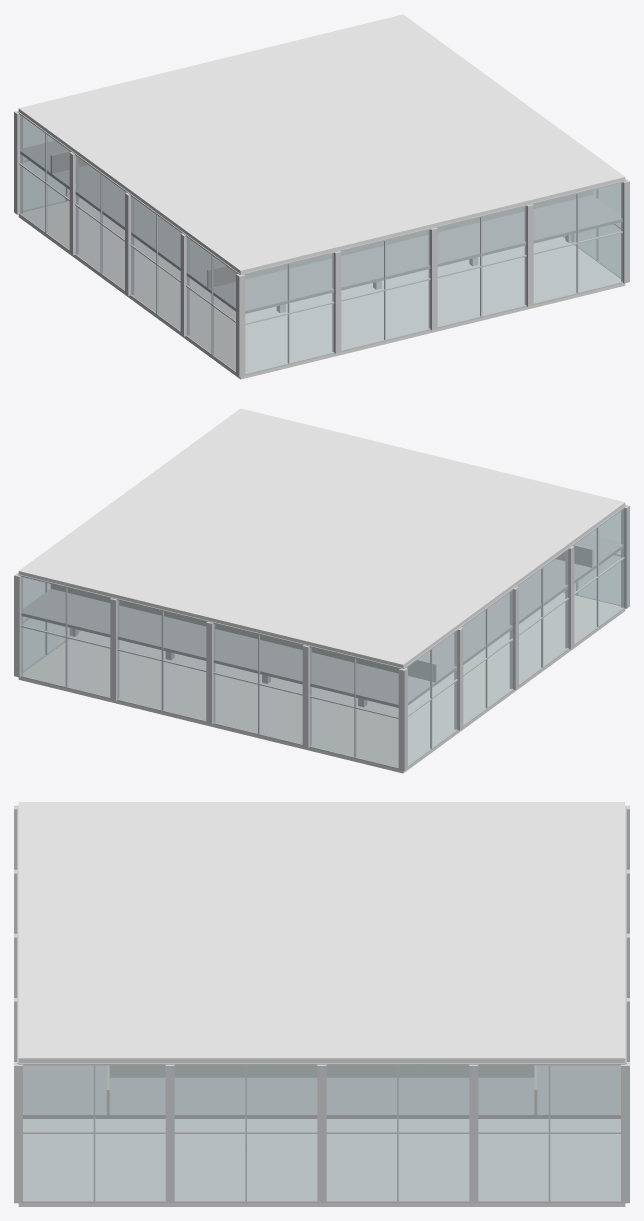
The model's file is mall.glb.
3 renders of one model, top to bottom at view 1: azimuth 30°, elevation 25°; view 2: azimuth 150°, elevation 25°; view 3: azimuth 270°, elevation 25°, orthographic. The views are drawn at different scales.
Parts seen in each view (by area): view 1: TTTM_CeilingSlab, TTTM_FloorSlab, TTTM_Mezz_South, TTTM_Mezz_West, TTTM_CW_South_Glass_07_00, TTTM_CW_South_Glass_07_01, TTTM_CW_South_Glass_01_01, TTTM_CW_South_Glass_03_00, TTTM_CW_South_Glass_05_01, TTTM_CW_South_Glass_01_00, TTTM_CW_South_Glass_02_01, TTTM_CW_South_Glass_03_01 (+43 smaller); view 2: TTTM_CeilingSlab, TTTM_FloorSlab, TTTM_Mezz_North, TTTM_Mezz_West, TTTM_CW_North_Glass_00_00, TTTM_CW_North_Glass_00_01, TTTM_CW_North_Glass_02_01, TTTM_CW_North_Glass_04_00, TTTM_CW_North_Glass_06_01, TTTM_CW_North_Glass_02_00, TTTM_CW_North_Glass_04_01, TTTM_CW_North_Glass_05_01 (+43 smaller); view 3: TTTM_CeilingSlab, TTTM_FloorSlab, TTTM_Mezz_East, TTTM_Rail_East, TTTM_CW_East_Glass_00_00, TTTM_CW_East_Glass_00_01, TTTM_CW_East_Glass_01_00, TTTM_CW_East_Glass_01_01, TTTM_CW_East_Glass_06_00, TTTM_CW_East_Glass_06_01, TTTM_CW_East_Glass_07_00, TTTM_CW_East_Glass_07_01 (+18 smaller).
Boxes of the visible parts, x1=… form: TTTM_CeilingSlab: x1=18, y1=14, x2=625, y2=274; TTTM_FloorSlab: x1=18, y1=198, x2=625, y2=379; TTTM_Mezz_South: x1=207, y1=195, x2=622, y2=313; TTTM_Mezz_West: x1=52, y1=165, x2=224, y2=290; TTTM_CW_South_Glass_07_00: x1=578, y1=233, x2=622, y2=292; TTTM_CW_South_Glass_07_01: x1=578, y1=183, x2=622, y2=241; TTTM_CW_South_Glass_01_01: x1=290, y1=253, x2=333, y2=312; TTTM_CW_South_Glass_03_00: x1=386, y1=280, x2=429, y2=339; TTTM_CW_South_Glass_05_01: x1=482, y1=206, x2=525, y2=265; TTTM_CW_South_Glass_01_00: x1=290, y1=304, x2=333, y2=362; TTTM_CW_South_Glass_02_01: x1=341, y1=241, x2=384, y2=299; TTTM_CW_South_Glass_03_01: x1=386, y1=230, x2=429, y2=288; TTTM_CeilingSlab: x1=18, y1=408, x2=625, y2=668; TTTM_FloorSlab: x1=18, y1=592, x2=625, y2=773; TTTM_Mezz_North: x1=21, y1=589, x2=436, y2=707; TTTM_Mezz_West: x1=419, y1=559, x2=591, y2=684; TTTM_CW_North_Glass_00_00: x1=21, y1=627, x2=65, y2=686; TTTM_CW_North_Glass_00_01: x1=21, y1=577, x2=65, y2=635; TTTM_CW_North_Glass_02_01: x1=118, y1=600, x2=161, y2=659; TTTM_CW_North_Glass_04_00: x1=214, y1=674, x2=257, y2=733; TTTM_CW_North_Glass_06_01: x1=310, y1=647, x2=353, y2=706; TTTM_CW_North_Glass_02_00: x1=118, y1=651, x2=161, y2=709; TTTM_CW_North_Glass_04_01: x1=214, y1=624, x2=257, y2=682; TTTM_CW_North_Glass_05_01: x1=259, y1=635, x2=302, y2=693; TTTM_CeilingSlab: x1=18, y1=802, x2=625, y2=1062; TTTM_FloorSlab: x1=18, y1=1119, x2=625, y2=1206; TTTM_Mezz_East: x1=109, y1=1077, x2=534, y2=1118; TTTM_Rail_East: x1=109, y1=1065, x2=534, y2=1077; TTTM_CW_East_Glass_00_00: x1=23, y1=1134, x2=93, y2=1200; TTTM_CW_East_Glass_00_01: x1=23, y1=1065, x2=93, y2=1131; TTTM_CW_East_Glass_01_00: x1=95, y1=1134, x2=165, y2=1200; TTTM_CW_East_Glass_01_01: x1=95, y1=1065, x2=165, y2=1131; TTTM_CW_East_Glass_06_00: x1=478, y1=1134, x2=548, y2=1200; TTTM_CW_East_Glass_06_01: x1=478, y1=1065, x2=548, y2=1131; TTTM_CW_East_Glass_07_00: x1=550, y1=1134, x2=620, y2=1200; TTTM_CW_East_Glass_07_01: x1=550, y1=1065, x2=620, y2=1131.
Bounding box in the file's own units: 20.3 × 5.4 × 20.3.
